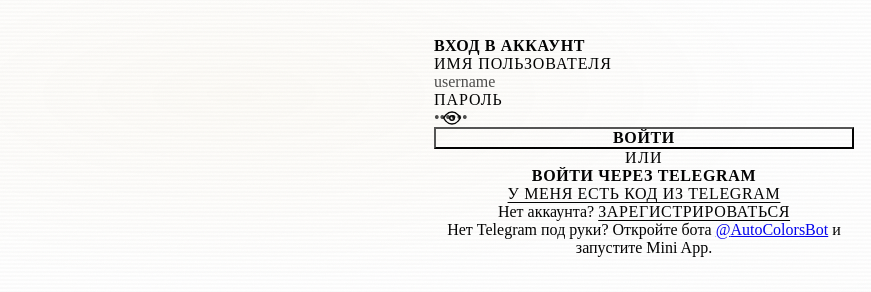
Test case: AuthForm › shows link to bot when loginUrl is set
What coordinates should you click on to do the following:
click the button "Войти через Telegram"
I would click on:
 (644, 176)
Its box is [434,167,854,185].
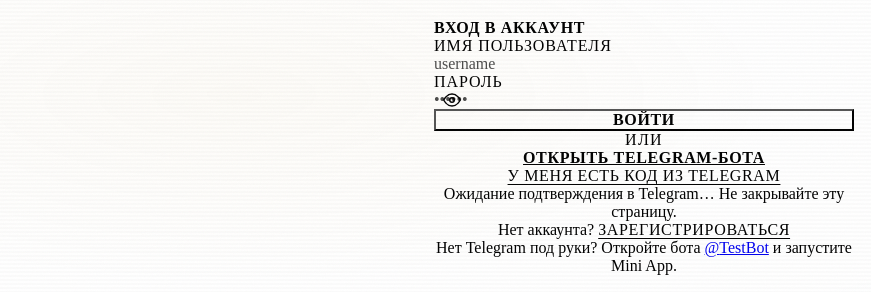
Result: the link "Открыть Telegram-бота" is shown at [523,149,765,166]
